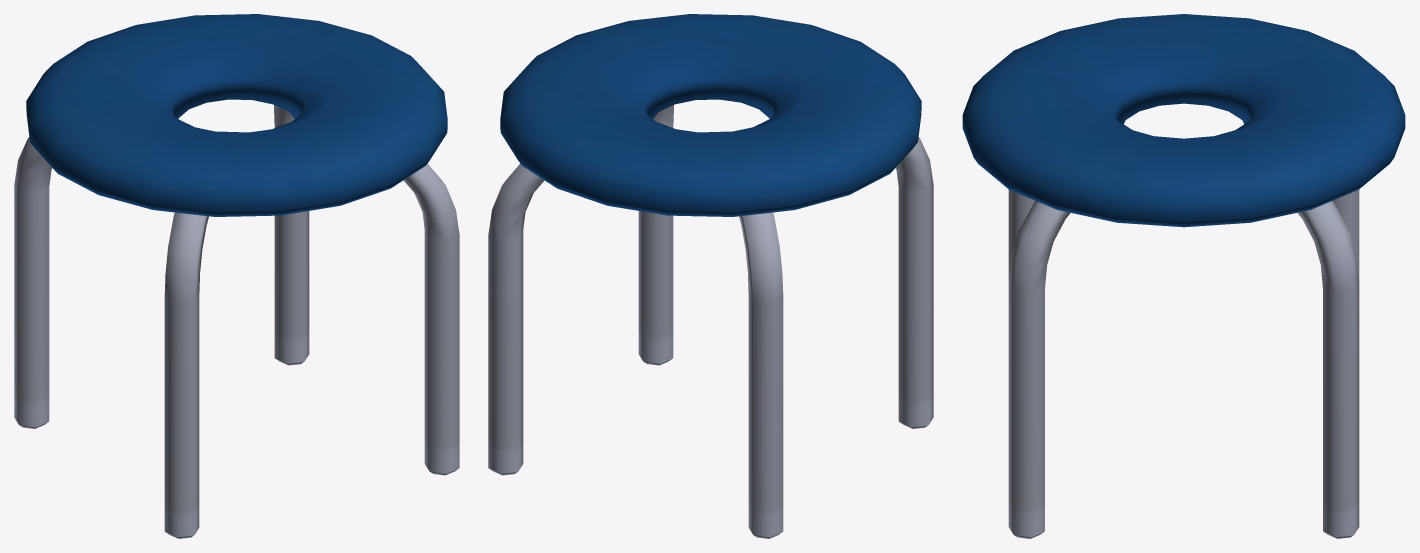
3 renders of one model, left to right at view 1: azimuth 30°, elevation 25°; view 2: azimuth 150°, elevation 25°; view 3: azimuth 270°, elevation 25°, orthographic. The views are drawn at different scales.
Bounding box in the file's own units: 5.34 × 5 × 5.34.
2 materials, 2 textured.
